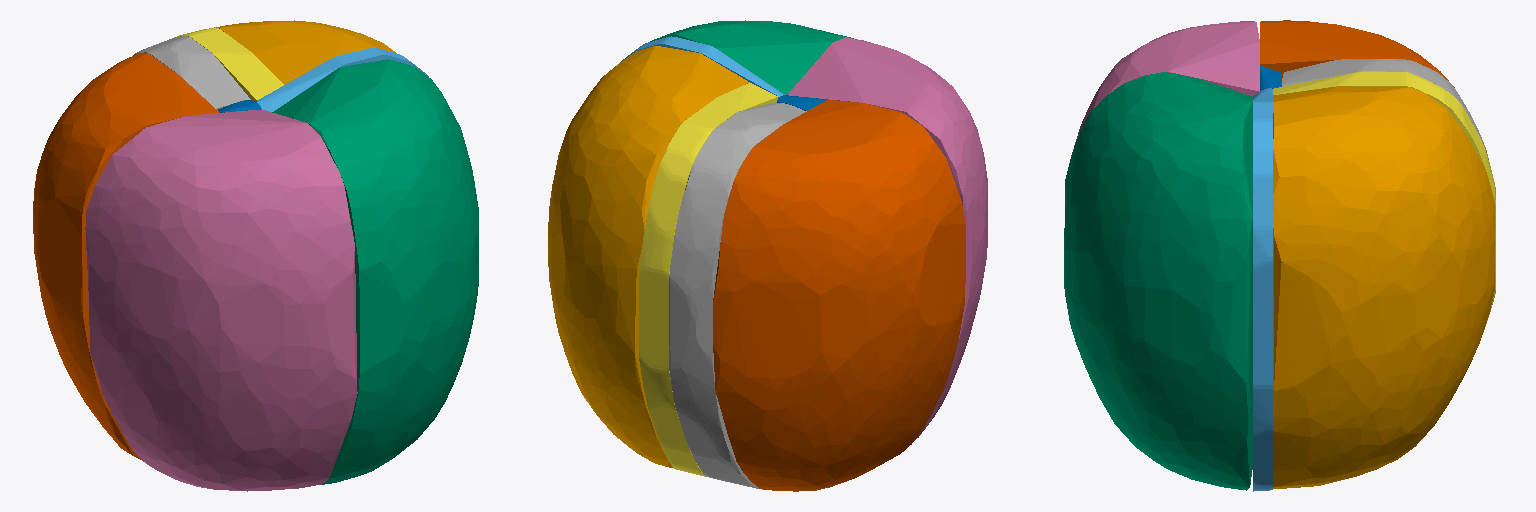
The robot description file, URDF, robot "root":
<robot name="root">
  <link name="link_convex_piece_004.obj">
    <inertial>
      <origin xyz="0 0 0" rpy="0 0 0"/>
    </inertial>
    <visual>
      <origin xyz="0 0 0" rpy="0 0 0"/>
      <geometry>
        <mesh filename="meshes/convex_piece_004.obj" scale="1.0 1.0 1.0"/>
      </geometry>
    </visual>
    <collision>
      <origin xyz="0 0 0" rpy="0 0 0"/>
      <geometry>
        <mesh filename="meshes/convex_piece_004.obj" scale="1.0 1.0 1.0"/>
      </geometry>
    </collision>
  </link>
  <link name="link_convex_piece_001.obj">
    <inertial>
      <origin xyz="0 0 0" rpy="0 0 0"/>
    </inertial>
    <visual>
      <origin xyz="0 0 0" rpy="0 0 0"/>
      <geometry>
        <mesh filename="meshes/convex_piece_001.obj" scale="1.0 1.0 1.0"/>
      </geometry>
    </visual>
    <collision>
      <origin xyz="0 0 0" rpy="0 0 0"/>
      <geometry>
        <mesh filename="meshes/convex_piece_001.obj" scale="1.0 1.0 1.0"/>
      </geometry>
    </collision>
  </link>
  <joint name="link_convex_piece_001.obj_joint" type="fixed">
    <origin xyz="0 0 0" rpy="0 0 0"/>
    <parent link="link_convex_piece_004.obj"/>
    <child link="link_convex_piece_001.obj"/>
  </joint>
  <link name="link_convex_piece_005.obj">
    <inertial>
      <origin xyz="0 0 0" rpy="0 0 0"/>
    </inertial>
    <visual>
      <origin xyz="0 0 0" rpy="0 0 0"/>
      <geometry>
        <mesh filename="meshes/convex_piece_005.obj" scale="1.0 1.0 1.0"/>
      </geometry>
    </visual>
    <collision>
      <origin xyz="0 0 0" rpy="0 0 0"/>
      <geometry>
        <mesh filename="meshes/convex_piece_005.obj" scale="1.0 1.0 1.0"/>
      </geometry>
    </collision>
  </link>
  <joint name="link_convex_piece_005.obj_joint" type="fixed">
    <origin xyz="0 0 0" rpy="0 0 0"/>
    <parent link="link_convex_piece_001.obj"/>
    <child link="link_convex_piece_005.obj"/>
  </joint>
  <link name="link_convex_piece_002.obj">
    <inertial>
      <origin xyz="0 0 0" rpy="0 0 0"/>
    </inertial>
    <visual>
      <origin xyz="0 0 0" rpy="0 0 0"/>
      <geometry>
        <mesh filename="meshes/convex_piece_002.obj" scale="1.0 1.0 1.0"/>
      </geometry>
    </visual>
    <collision>
      <origin xyz="0 0 0" rpy="0 0 0"/>
      <geometry>
        <mesh filename="meshes/convex_piece_002.obj" scale="1.0 1.0 1.0"/>
      </geometry>
    </collision>
  </link>
  <joint name="link_convex_piece_002.obj_joint" type="fixed">
    <origin xyz="0 0 0" rpy="0 0 0"/>
    <parent link="link_convex_piece_005.obj"/>
    <child link="link_convex_piece_002.obj"/>
  </joint>
  <link name="link_convex_piece_006.obj">
    <inertial>
      <origin xyz="0 0 0" rpy="0 0 0"/>
    </inertial>
    <visual>
      <origin xyz="0 0 0" rpy="0 0 0"/>
      <geometry>
        <mesh filename="meshes/convex_piece_006.obj" scale="1.0 1.0 1.0"/>
      </geometry>
    </visual>
    <collision>
      <origin xyz="0 0 0" rpy="0 0 0"/>
      <geometry>
        <mesh filename="meshes/convex_piece_006.obj" scale="1.0 1.0 1.0"/>
      </geometry>
    </collision>
  </link>
  <joint name="link_convex_piece_006.obj_joint" type="fixed">
    <origin xyz="0 0 0" rpy="0 0 0"/>
    <parent link="link_convex_piece_002.obj"/>
    <child link="link_convex_piece_006.obj"/>
  </joint>
  <link name="link_convex_piece_003.obj">
    <inertial>
      <origin xyz="0 0 0" rpy="0 0 0"/>
    </inertial>
    <visual>
      <origin xyz="0 0 0" rpy="0 0 0"/>
      <geometry>
        <mesh filename="meshes/convex_piece_003.obj" scale="1.0 1.0 1.0"/>
      </geometry>
    </visual>
    <collision>
      <origin xyz="0 0 0" rpy="0 0 0"/>
      <geometry>
        <mesh filename="meshes/convex_piece_003.obj" scale="1.0 1.0 1.0"/>
      </geometry>
    </collision>
  </link>
  <joint name="link_convex_piece_003.obj_joint" type="fixed">
    <origin xyz="0 0 0" rpy="0 0 0"/>
    <parent link="link_convex_piece_006.obj"/>
    <child link="link_convex_piece_003.obj"/>
  </joint>
  <link name="link_convex_piece_000.obj">
    <inertial>
      <origin xyz="0 0 0" rpy="0 0 0"/>
    </inertial>
    <visual>
      <origin xyz="0 0 0" rpy="0 0 0"/>
      <geometry>
        <mesh filename="meshes/convex_piece_000.obj" scale="1.0 1.0 1.0"/>
      </geometry>
    </visual>
    <collision>
      <origin xyz="0 0 0" rpy="0 0 0"/>
      <geometry>
        <mesh filename="meshes/convex_piece_000.obj" scale="1.0 1.0 1.0"/>
      </geometry>
    </collision>
  </link>
  <joint name="link_convex_piece_000.obj_joint" type="fixed">
    <origin xyz="0 0 0" rpy="0 0 0"/>
    <parent link="link_convex_piece_003.obj"/>
    <child link="link_convex_piece_000.obj"/>
  </joint>
  <link name="link_convex_piece_007.obj">
    <inertial>
      <origin xyz="0 0 0" rpy="0 0 0"/>
    </inertial>
    <visual>
      <origin xyz="0 0 0" rpy="0 0 0"/>
      <geometry>
        <mesh filename="meshes/convex_piece_007.obj" scale="1.0 1.0 1.0"/>
      </geometry>
    </visual>
    <collision>
      <origin xyz="0 0 0" rpy="0 0 0"/>
      <geometry>
        <mesh filename="meshes/convex_piece_007.obj" scale="1.0 1.0 1.0"/>
      </geometry>
    </collision>
  </link>
  <joint name="link_convex_piece_007.obj_joint" type="fixed">
    <origin xyz="0 0 0" rpy="0 0 0"/>
    <parent link="link_convex_piece_000.obj"/>
    <child link="link_convex_piece_007.obj"/>
  </joint>
</robot>

--- What the picture shows (computed from the rendered views, not written in the file) ---
3 views of the same robot in one strip: view 1: azimuth 30°, elevation 25°; view 2: azimuth 150°, elevation 25°; view 3: azimuth 270°, elevation 25° (orthographic).
Robot: root — 8 links, 7 joints (7 fixed); root link link_convex_piece_004.obj; default pose: all joints at 0.
Links seen in each view (by area): view 1: link_convex_piece_000.obj, link_convex_piece_005.obj, link_convex_piece_003.obj, link_convex_piece_004.obj, link_convex_piece_007.obj, link_convex_piece_002.obj, link_convex_piece_001.obj; view 2: link_convex_piece_003.obj, link_convex_piece_004.obj, link_convex_piece_007.obj, link_convex_piece_000.obj, link_convex_piece_002.obj, link_convex_piece_005.obj, link_convex_piece_001.obj; view 3: link_convex_piece_004.obj, link_convex_piece_005.obj, link_convex_piece_001.obj, link_convex_piece_000.obj, link_convex_piece_003.obj, link_convex_piece_002.obj, link_convex_piece_007.obj.
Link boxes in pixels (<box>): link_convex_piece_000.obj: <box>85,109,357,491</box>; link_convex_piece_005.obj: <box>272,59,478,484</box>; link_convex_piece_003.obj: <box>33,53,219,459</box>; link_convex_piece_004.obj: <box>214,20,395,84</box>; link_convex_piece_007.obj: <box>133,36,250,109</box>; link_convex_piece_002.obj: <box>174,27,283,100</box>; link_convex_piece_001.obj: <box>256,48,428,111</box>; link_convex_piece_003.obj: <box>713,99,965,491</box>; link_convex_piece_004.obj: <box>548,46,749,467</box>; link_convex_piece_007.obj: <box>669,102,806,489</box>; link_convex_piece_000.obj: <box>788,37,987,439</box>; link_convex_piece_002.obj: <box>639,83,777,476</box>; link_convex_piece_005.obj: <box>650,20,853,94</box>; link_convex_piece_001.obj: <box>620,36,784,98</box>; link_convex_piece_004.obj: <box>1273,86,1494,488</box>; link_convex_piece_005.obj: <box>1064,72,1252,490</box>; link_convex_piece_001.obj: <box>1253,88,1272,491</box>; link_convex_piece_000.obj: <box>1068,21,1259,167</box>; link_convex_piece_003.obj: <box>1260,20,1454,87</box>; link_convex_piece_002.obj: <box>1273,72,1495,332</box>; link_convex_piece_007.obj: <box>1281,59,1491,170</box>.
Bounding box of the posed robot: 1.18 × 1.18 × 1.13 m (x, y, z).
Meshes: 8 distinct files referenced, 8 mesh visuals loaded (8 OBJ).
